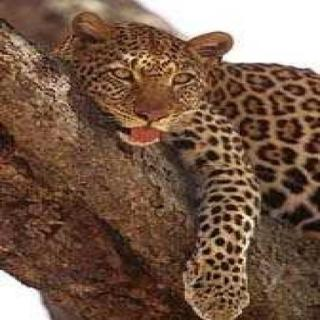Leopard: (52, 10, 320, 296)
